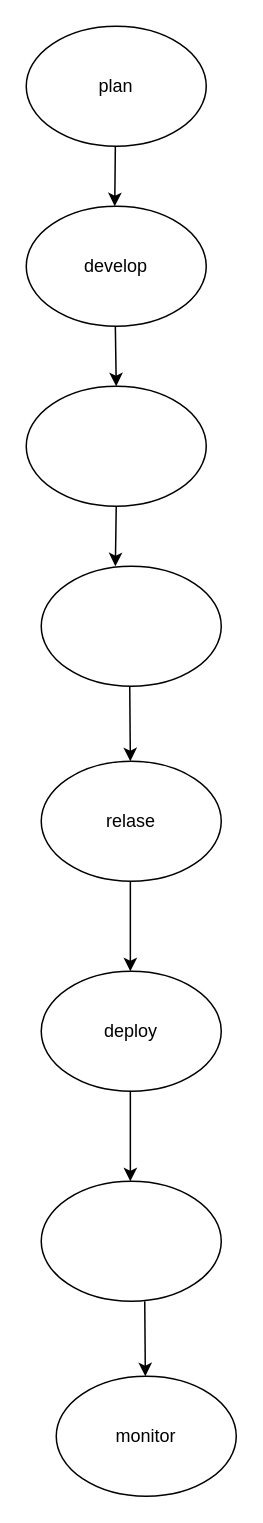
The diagram is 263 pixels wide and 1523 high, and some of its shapes have lost their labels. The shapes that lost their labels are listed below. From the top down, each one's box as (x1, y1, x2, y2) in pixels, then its label:
(25, 385, 206, 506): build
(40, 565, 221, 686): test
(40, 1180, 221, 1301): operate
